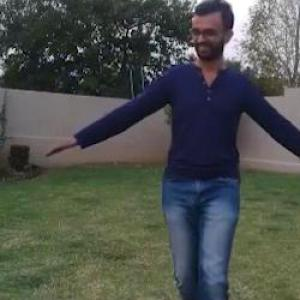land: (50, 0, 299, 299)
